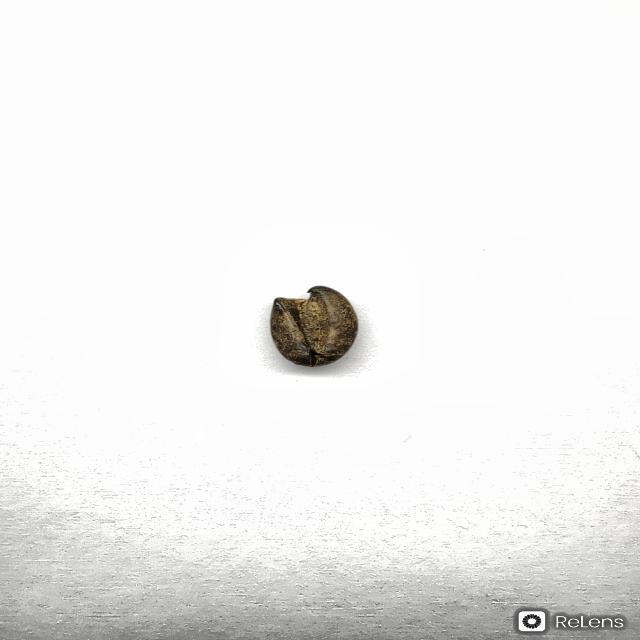Black: (268, 284, 360, 368)
